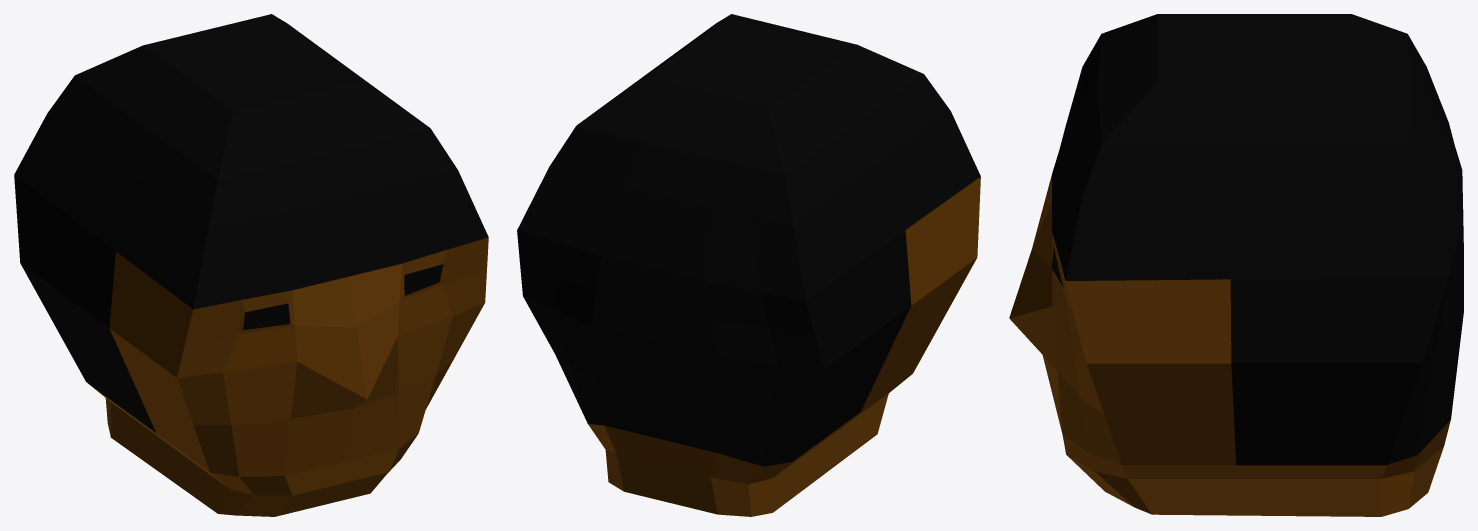
File: head.obj
3 views of the same model, side by side, from view 1: azimuth 30°, elevation 25°; view 2: azimuth 150°, elevation 25°; view 3: azimuth 270°, elevation 25° (orthographic). The views are drawn at different scales.
Parts seen in each view (by area): view 1: head; view 2: head; view 3: head.
Part boxes in pixels (x1=…): head: x1=14, y1=14, x2=488, y2=516; head: x1=517, y1=14, x2=980, y2=516; head: x1=1009, y1=14, x2=1463, y2=516.
Size of the model in its own units: 0.19 by 0.2345 by 0.2268.
